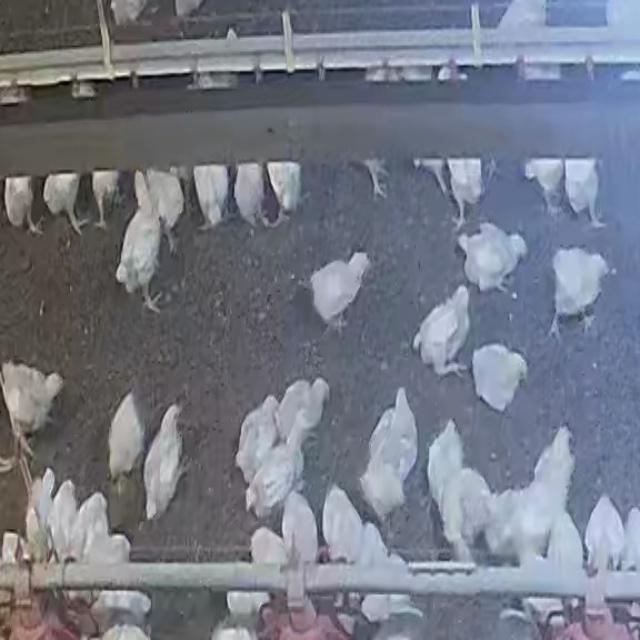chicken: (0, 357, 68, 452), (134, 400, 190, 515), (120, 172, 164, 306), (309, 248, 376, 324), (548, 248, 611, 328), (251, 434, 314, 512), (458, 224, 525, 292), (468, 341, 526, 412), (372, 388, 422, 469), (420, 290, 471, 368), (528, 424, 581, 495), (442, 472, 490, 550), (314, 485, 361, 561), (274, 375, 327, 441), (237, 400, 282, 466), (540, 510, 584, 570), (422, 422, 454, 502), (112, 392, 144, 469), (588, 501, 622, 565), (25, 464, 51, 544), (52, 480, 78, 558), (283, 499, 313, 563), (75, 496, 104, 562), (364, 461, 400, 510), (93, 529, 131, 572), (362, 523, 395, 566), (256, 533, 293, 566)
